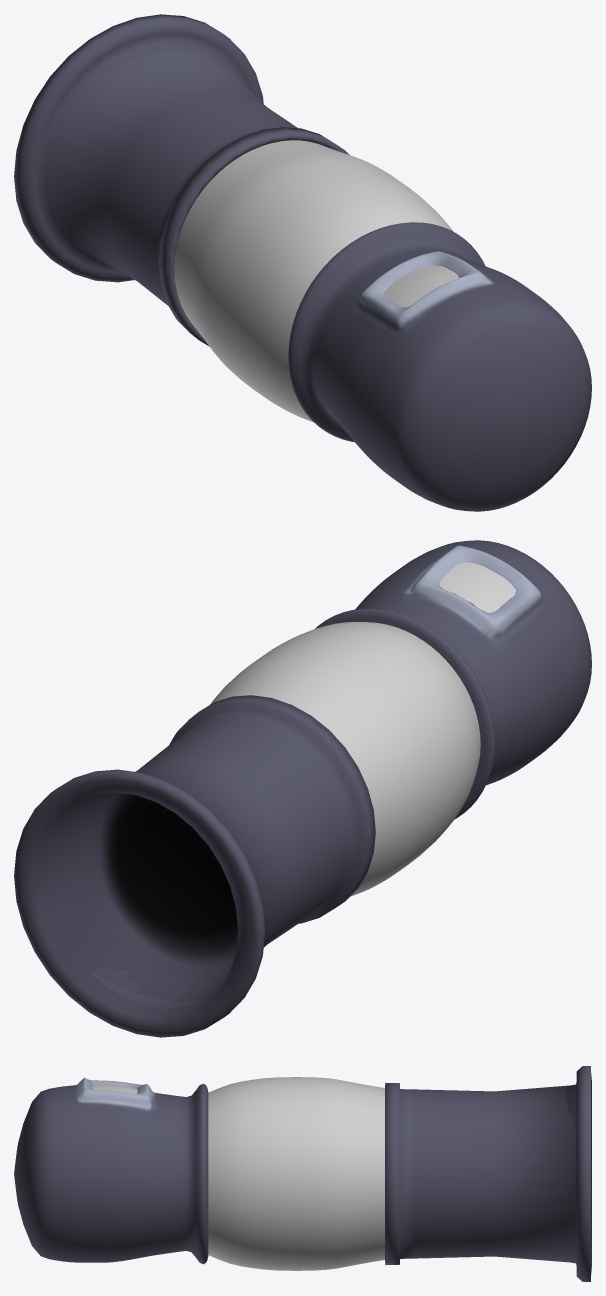
The model's file is weapon.fbx.
The picture shows the model from 3 angles, top to bottom: view 1: azimuth 30°, elevation 25°; view 2: azimuth 150°, elevation 25°; view 3: azimuth 270°, elevation 25°; orthographic projection. The views are drawn at different scales.
Parts seen in each view (by area): view 1: Cylinder.002, Cylinder, Cylinder.001, Cylinder.003; view 2: Cylinder, Cylinder.001, Cylinder.002, Cylinder.003; view 3: Cylinder, Cylinder.001, Cylinder.002, Cylinder.003.
Boxes of the visible parts, x1=… form: Cylinder.002: x1=288, y1=222, x2=591, y2=511; Cylinder: x1=14, y1=14, x2=349, y2=346; Cylinder.001: x1=174, y1=140, x2=453, y2=422; Cylinder.003: x1=384, y1=265, x2=458, y2=307; Cylinder: x1=14, y1=695, x2=375, y2=1037; Cylinder.001: x1=210, y1=621, x2=480, y2=896; Cylinder.002: x1=315, y1=540, x2=591, y2=819; Cylinder.003: x1=439, y1=562, x2=515, y2=612; Cylinder: x1=385, y1=1066, x2=591, y2=1281; Cylinder.001: x1=208, y1=1077, x2=384, y2=1270; Cylinder.002: x1=14, y1=1078, x2=208, y2=1264; Cylinder.003: x1=92, y1=1084, x2=137, y2=1093.
Bounding box in the file's own units: 210 × 210 × 561.
